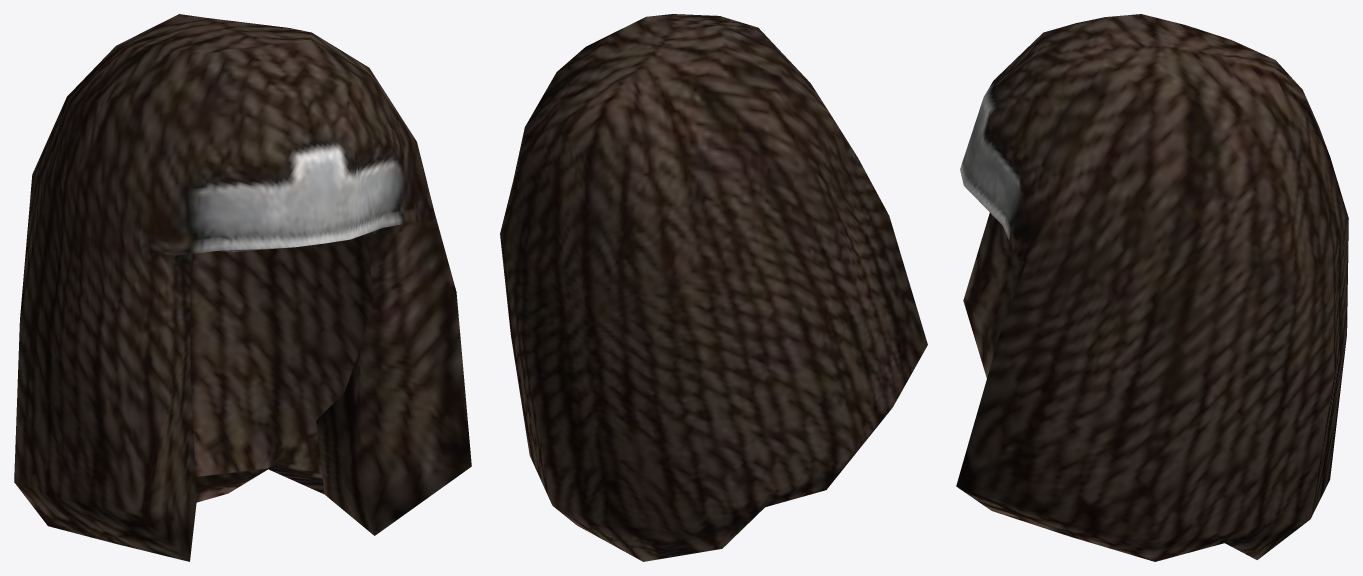
File: rider-helmet-slice-base.glb
3 views of the same model, side by side, from view 1: azimuth 30°, elevation 25°; view 2: azimuth 150°, elevation 25°; view 3: azimuth 270°, elevation 25° (orthographic). The views are drawn at different scales.
Bounding box in the file's own units: 0.2876 × 0.3862 × 0.2665.
Materials: 1 (1 with a texture image).
